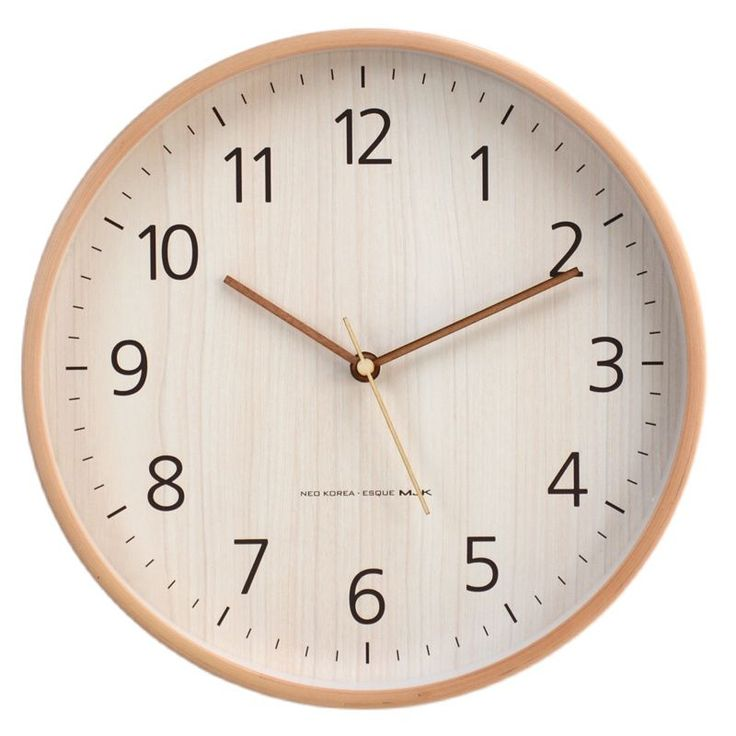clock: (12, 28, 736, 736)
